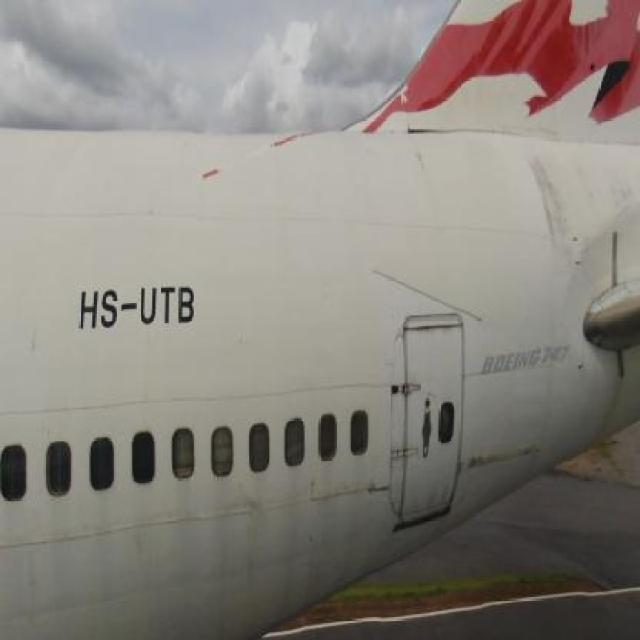Rust: (526, 149, 579, 251), (460, 445, 543, 466), (404, 318, 464, 336)
Scartch: (239, 492, 267, 593), (354, 479, 394, 507)
